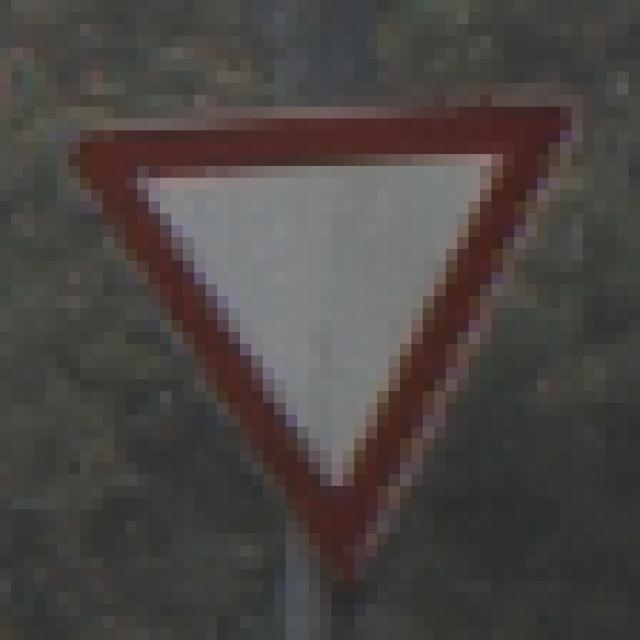Give Way: (58, 60, 584, 570)
